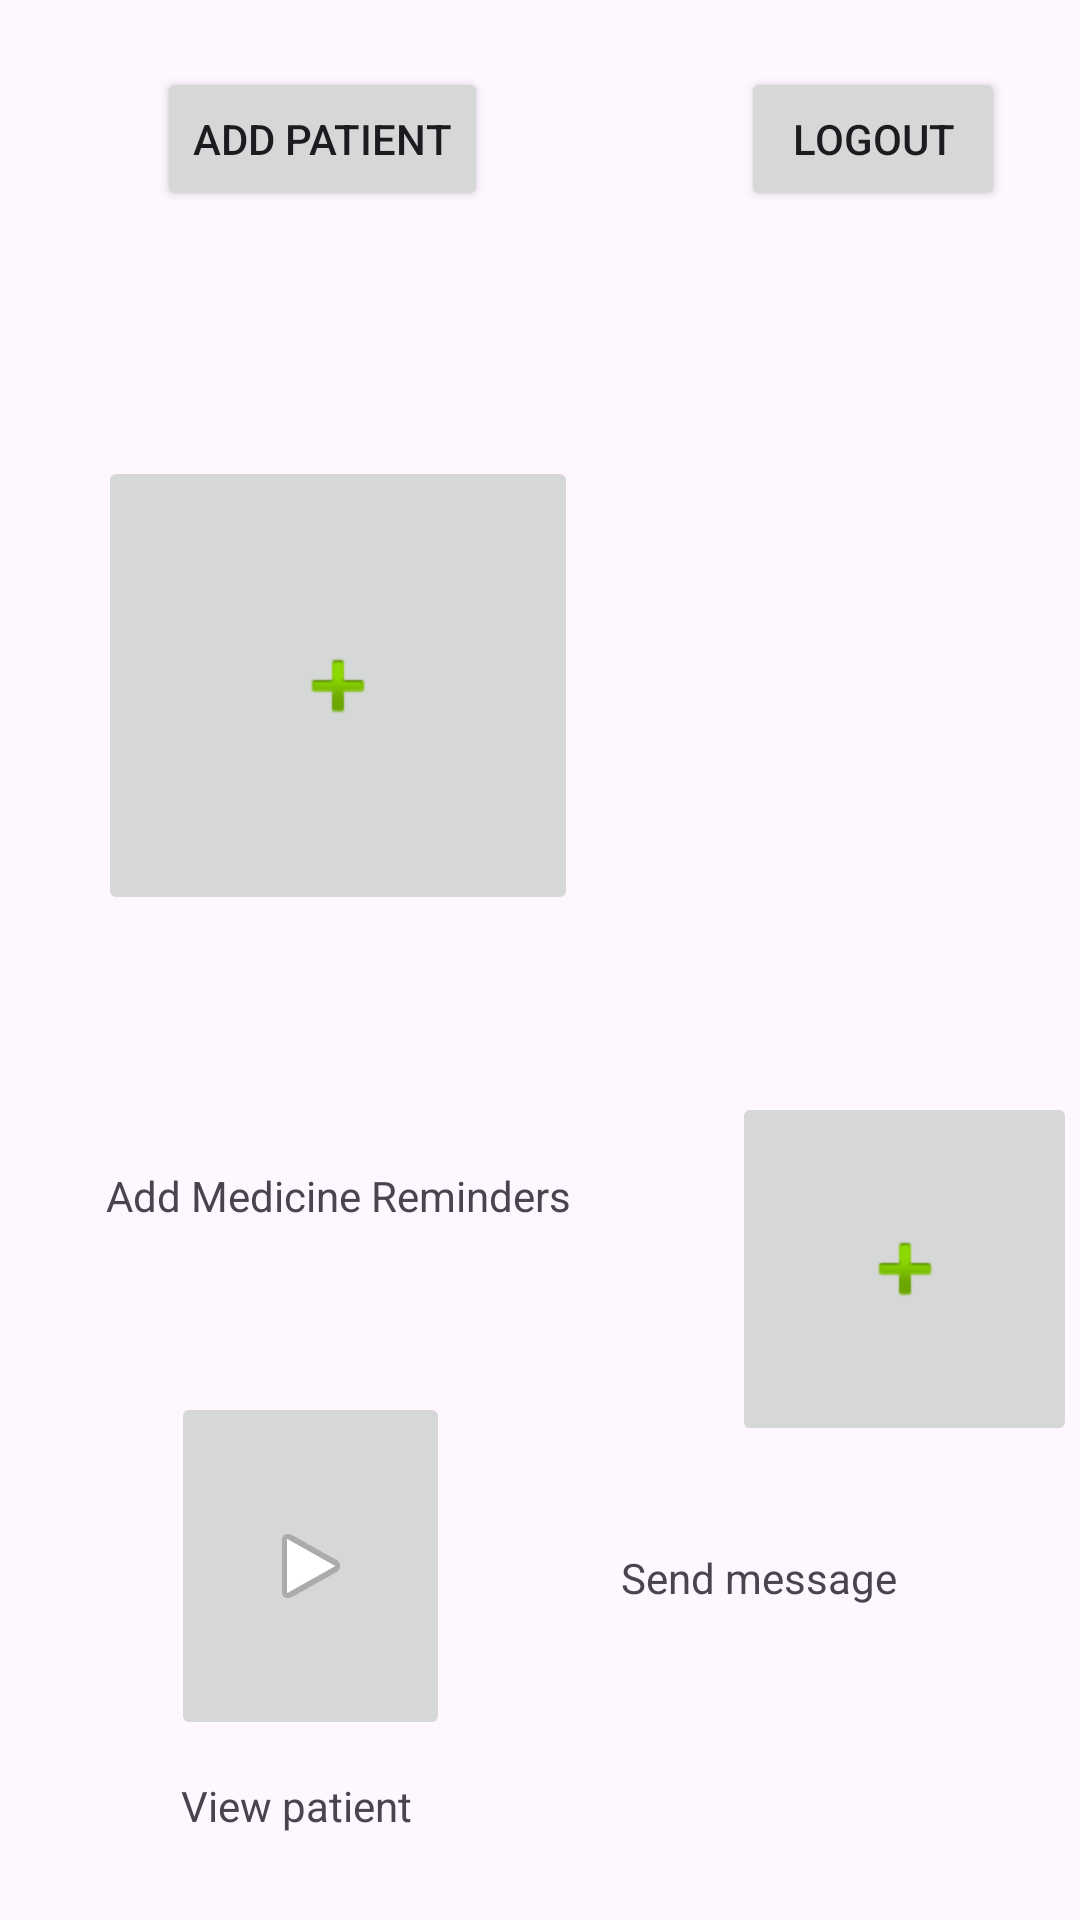

Icons on this 1080px×1920px Android screen, each with its box as (x1, y1, x2, y2):
play: (183, 1410, 438, 1722)
